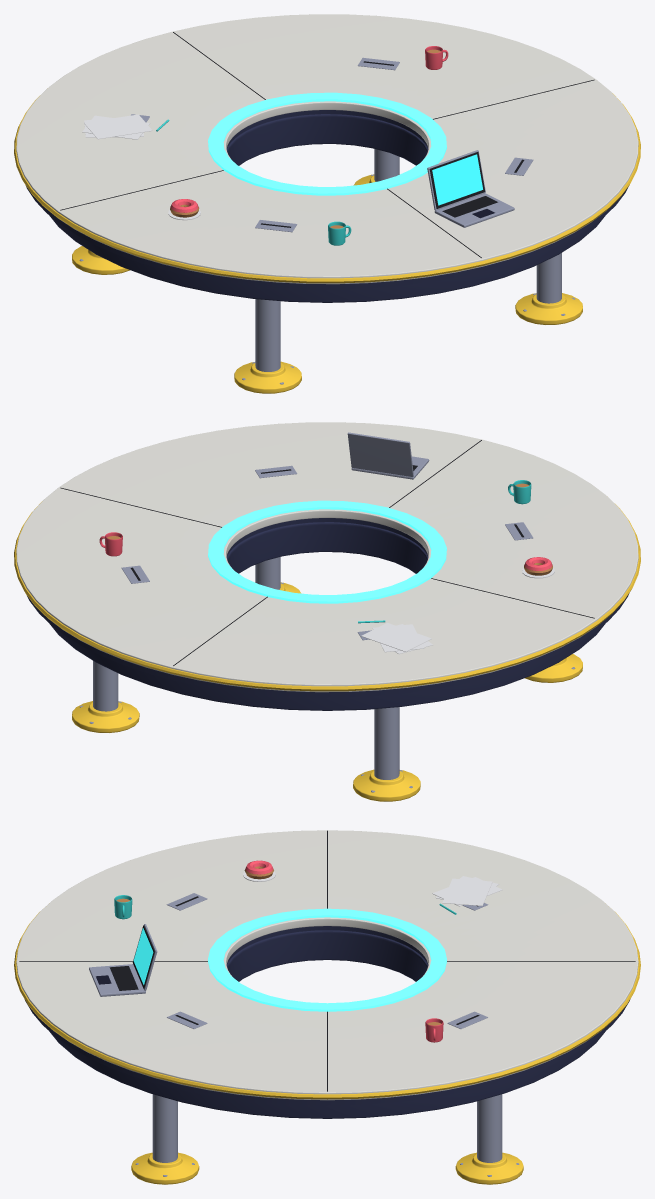
The model's file is meeting_table.glb.
The picture shows the model from 3 angles, top to bottom: view 1: azimuth 30°, elevation 25°; view 2: azimuth 150°, elevation 25°; view 3: azimuth 270°, elevation 25°; orthographic projection.
Parts seen in each view (by area): view 1: Body; view 2: Body; view 3: Body.
Part boxes in pixels (<box>): Body: <box>14,14,640,393</box>; Body: <box>14,422,640,801</box>; Body: <box>14,830,640,1184</box>.
Size of the model in its own units: 3.22 by 1.04 by 3.22.
